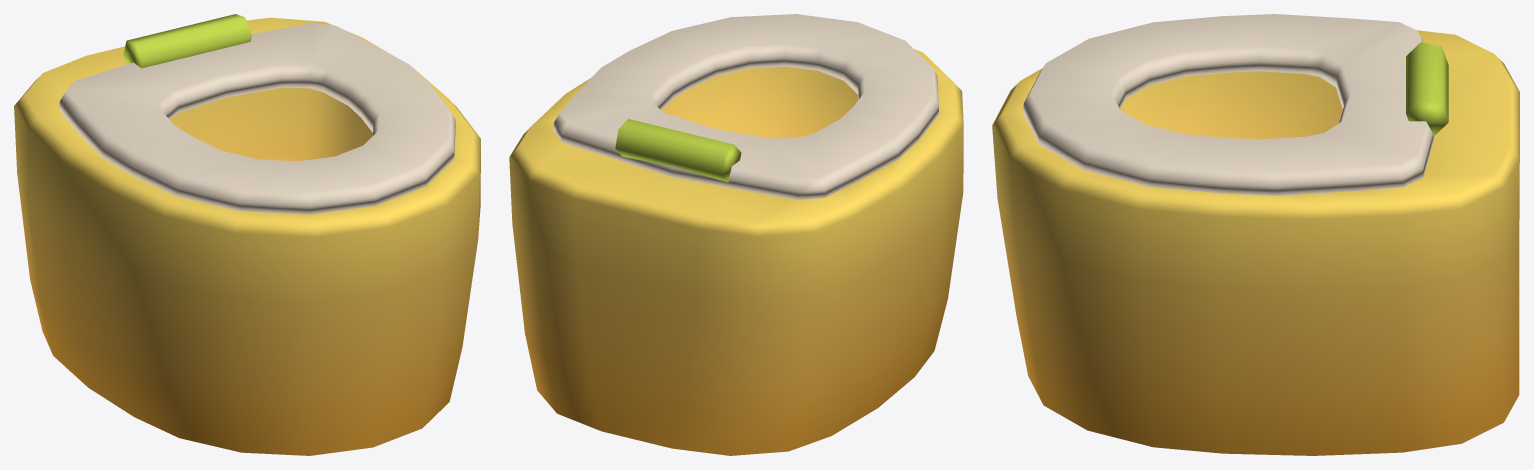
File: Homestead_nm_21.fbx
3 renders of one model, left to right at view 1: azimuth 30°, elevation 25°; view 2: azimuth 150°, elevation 25°; view 3: azimuth 270°, elevation 25°, orthographic. The views are drawn at different scales.
Visible parts, largest first — view 1: Homestead_nm_21; view 2: Homestead_nm_21; view 3: Homestead_nm_21.
Part boxes in pixels (x1,y1,x2,y2): Homestead_nm_21: [14, 14, 480, 455]; Homestead_nm_21: [509, 14, 963, 455]; Homestead_nm_21: [992, 14, 1519, 455].
Bounding box in the file's own units: 90.48 × 68.37 × 107.
